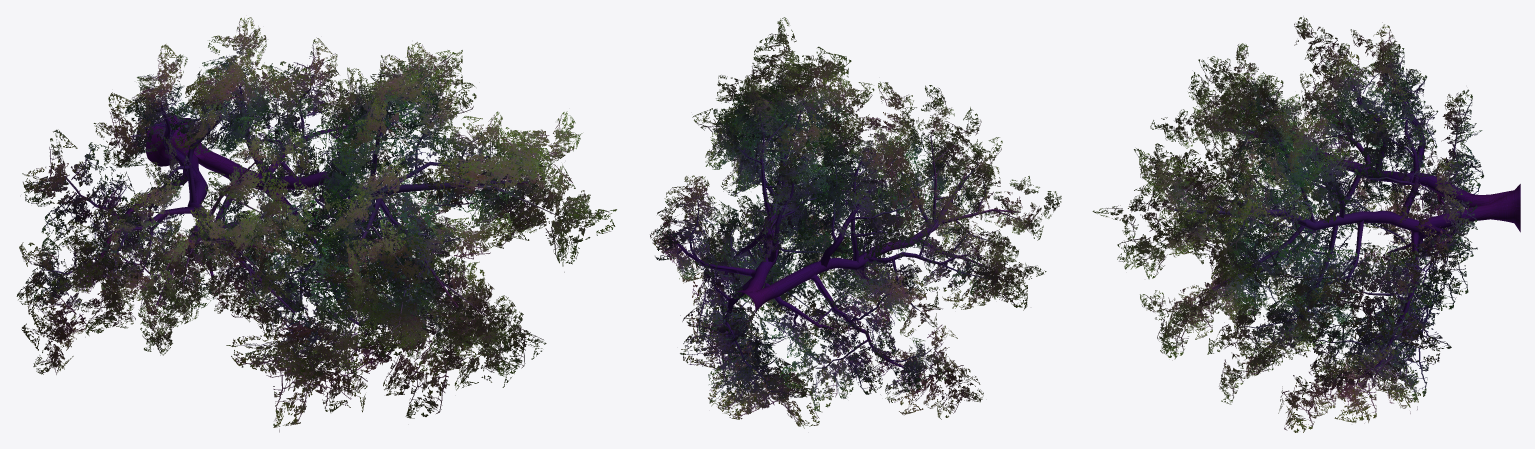
Rendered from oak_large_oak_tree_003_lod1.glb.
3 renders of one model, left to right at view 1: azimuth 30°, elevation 25°; view 2: azimuth 150°, elevation 25°; view 3: azimuth 270°, elevation 25°, orthographic. The views are drawn at different scales.
Visible parts, largest first — view 1: Large_oak_tree_003_LOD1; view 2: Large_oak_tree_003_LOD1; view 3: Large_oak_tree_003_LOD1.
Boxes of the visible parts, x1,y1,x2,y2 form: Large_oak_tree_003_LOD1: [16, 17, 616, 432]; Large_oak_tree_003_LOD1: [650, 17, 1061, 428]; Large_oak_tree_003_LOD1: [1092, 16, 1520, 432].
Size of the model in its own units: 28.47 by 25.78 by 27.88.
Materials: 2 (2 with a texture image).
